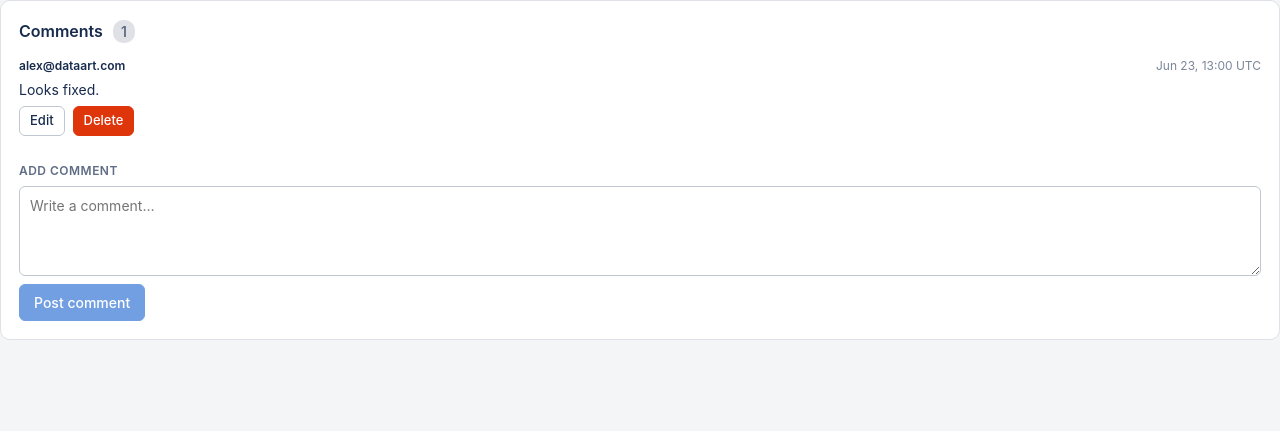
Test: CommentsPanel edit/delete (acceptance) › Cancel discards the edit and restores the original body
Expected: the text "Looks fixed." is shown, [19,81,99,98]
Click the button "Edit" at (42, 121), box [19,106,65,136]
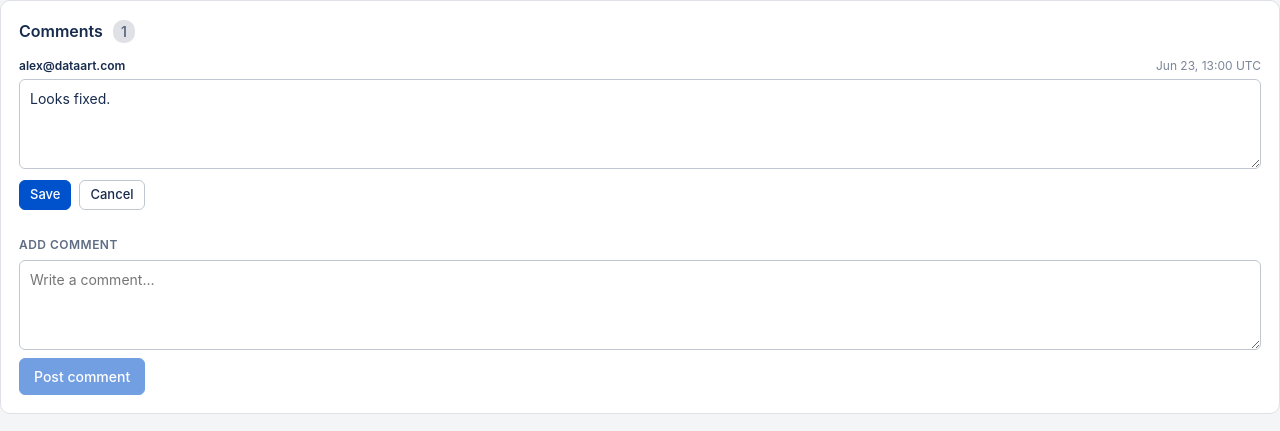
Replace the text in the text box named "Edit comment" with "a throwaway draft" at (640, 124), box [19,79,1261,169]
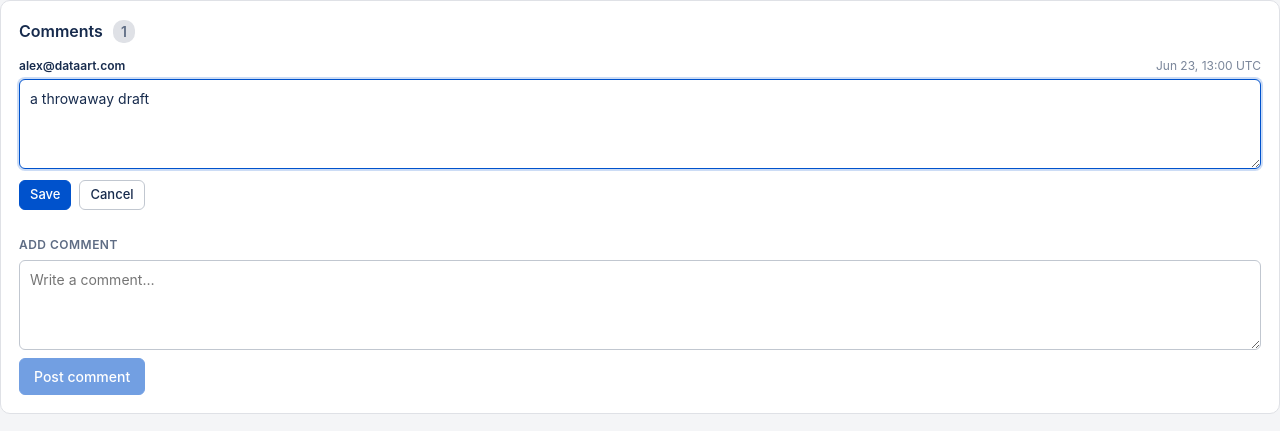
Click the button "Cancel" at (112, 195), box [79,180,145,210]
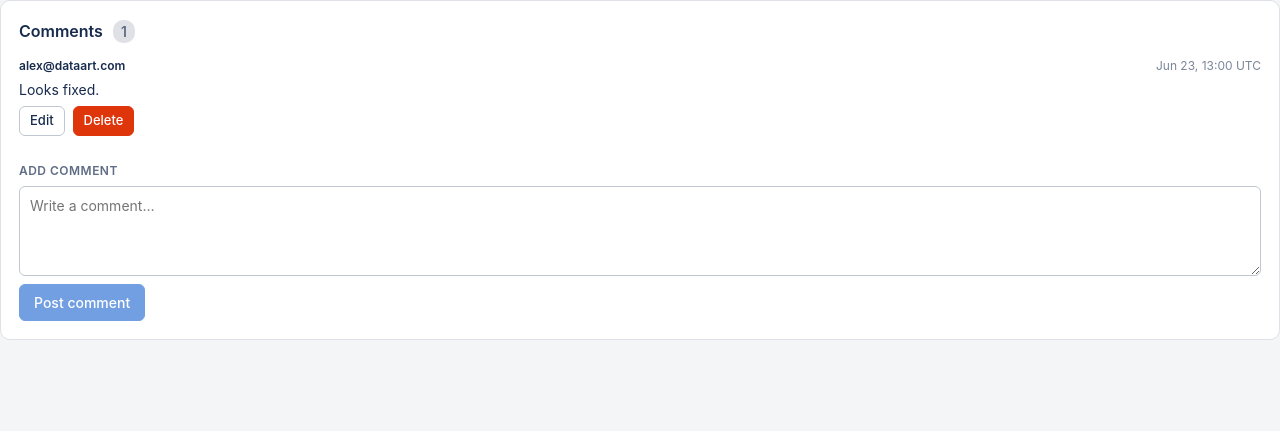
Now the text "Looks fixed." is shown, box [19,81,99,98]
